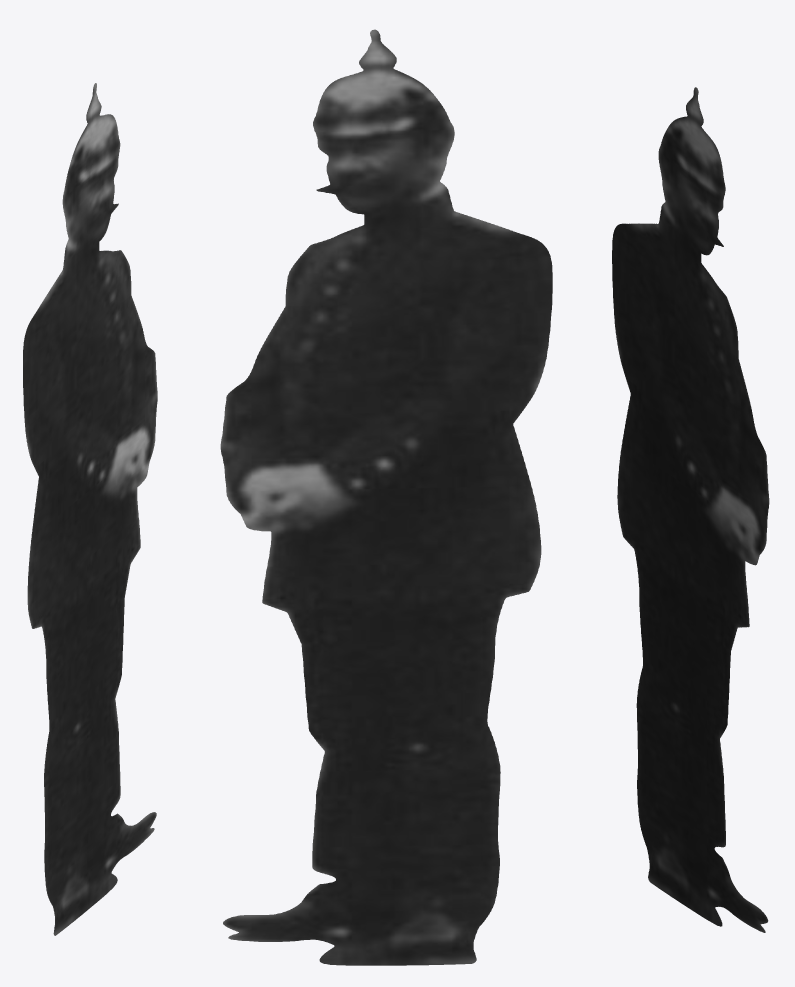
The model's file is Old_Friendly_policeman.FBX.
The picture shows the model from 3 angles, left to right: view 1: azimuth 30°, elevation 25°; view 2: azimuth 150°, elevation 25°; view 3: azimuth 270°, elevation 25°; orthographic projection. The views are drawn at different scales.
Visible parts, largest first — view 1: Friendly_policeman; view 2: Friendly_policeman; view 3: Friendly_policeman.
Part boxes in pixels (x1=…): Friendly_policeman: x1=23, y1=83, x2=157, y2=935; Friendly_policeman: x1=220, y1=29, x2=552, y2=965; Friendly_policeman: x1=612, y1=87, x2=769, y2=932.
Bounding box in the file's own units: 60.77 × 200 × 38.61.
1 material, 1 textured.
